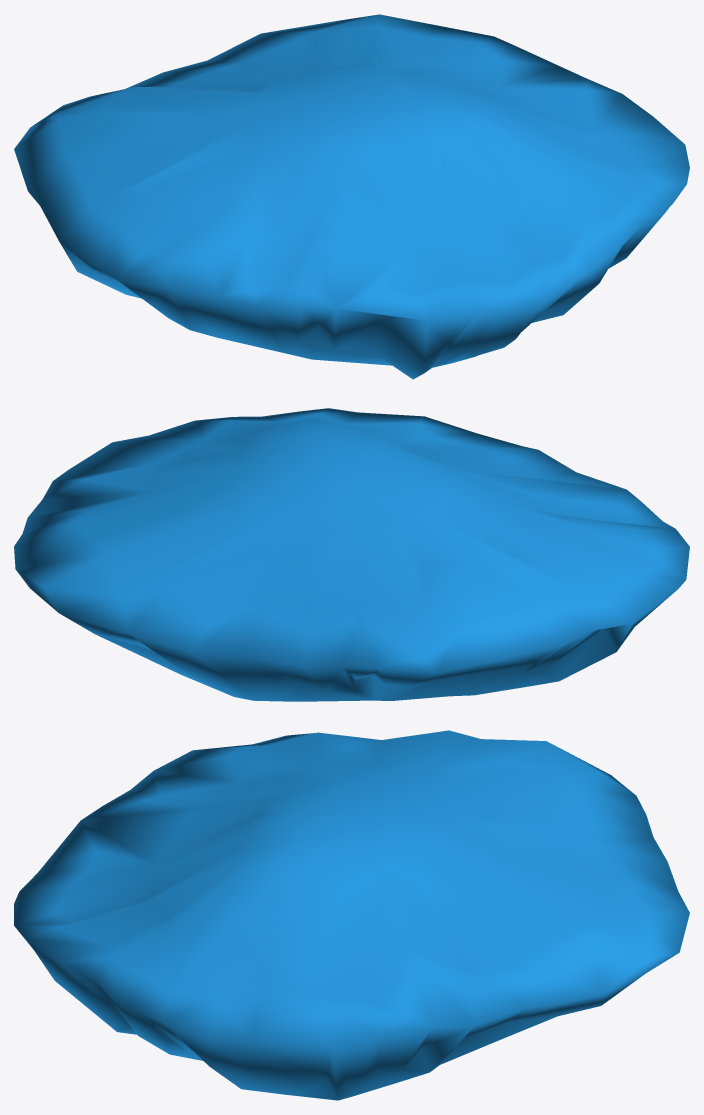
File: SM_flat_mushroom_02.fbx
3 renders of one model, top to bottom at view 1: azimuth 30°, elevation 25°; view 2: azimuth 150°, elevation 25°; view 3: azimuth 270°, elevation 25°, orthographic. The views are drawn at different scales.
Visible parts, largest first — view 1: flat_mushroom_02; view 2: flat_mushroom_02; view 3: flat_mushroom_02.
Part boxes in pixels (x1=…): flat_mushroom_02: x1=14, y1=14, x2=689, y2=379; flat_mushroom_02: x1=14, y1=408, x2=689, y2=701; flat_mushroom_02: x1=14, y1=730, x2=689, y2=1100.
Bounding box in the file's own units: 460 × 148 × 433.
